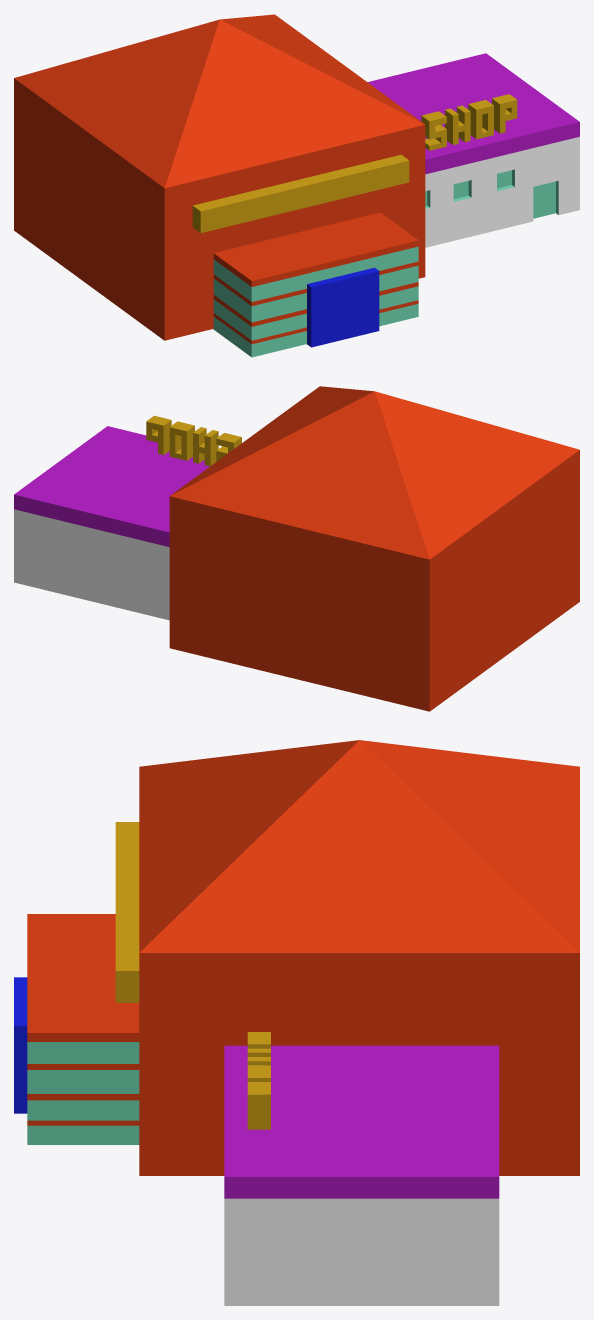
The model's file is lowploybuilding11.FBX.
3 renders of one model, top to bottom at view 1: azimuth 30°, elevation 25°; view 2: azimuth 150°, elevation 25°; view 3: azimuth 270°, elevation 25°, orthographic. The views are drawn at different scales.
Parts seen in each view (by area): view 1: Pyramid001, Box004, Box002, Box001, Box003, 加强型文本001; view 2: Pyramid001, Box004, 加强型文本001; view 3: Pyramid001, Box004, Box002, Box001, 加强型文本001, Box003.
Boxes of the visible parts, x1,y1,x2,y2 form: Pyramid001: (14,14,425,340); Box004: (367,53,579,247); Box002: (213,212,418,357); Box001: (192,154,409,232); Box003: (307,267,379,347); 加强型文本001: (421,94,517,150); Pyramid001: (169,386,579,711); Box004: (14,426,209,620); 加强型文本001: (146,415,241,466); Pyramid001: (139,740,579,1175); Box004: (224,1045,499,1305); Box002: (27,914,139,1144); Box001: (115,822,139,1002); 加强型文本001: (247,1032,270,1129); Box003: (14,977,27,1113).
Bounding box in the file's own units: 168 × 84.79 × 126.
